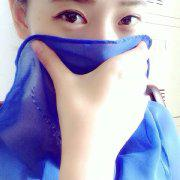OK: (32, 2, 147, 113)
